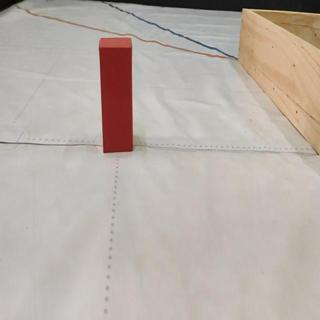redbox: (99, 36, 133, 153)
